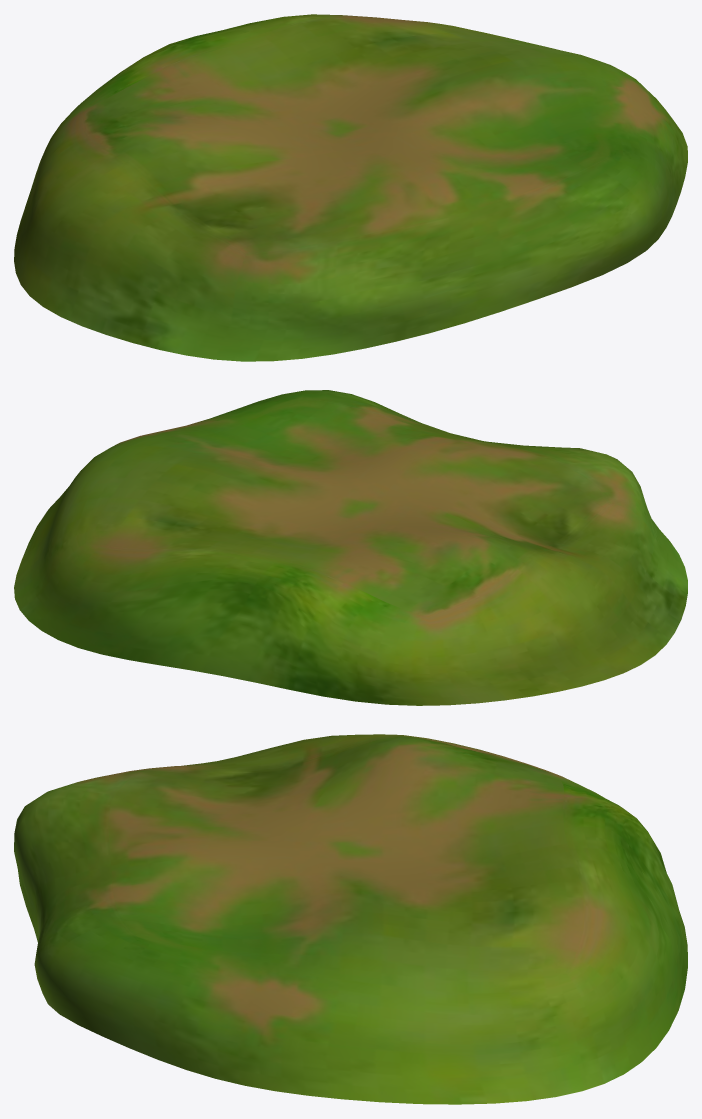
The model's file is Hill.glb.
3 views of the same model, one above another, from view 1: azimuth 30°, elevation 25°; view 2: azimuth 150°, elevation 25°; view 3: azimuth 270°, elevation 25° (orthographic). The views are drawn at different scales.
Visible parts, largest first — view 1: Hill; view 2: Hill; view 3: Hill.
Boxes of the visible parts, bbox=[...] form: Hill: bbox=[14, 14, 687, 361]; Hill: bbox=[14, 390, 687, 705]; Hill: bbox=[14, 734, 687, 1104].
Size of the model in its own units: 1.95 by 0.3239 by 1.63.
1 material, 1 textured.
